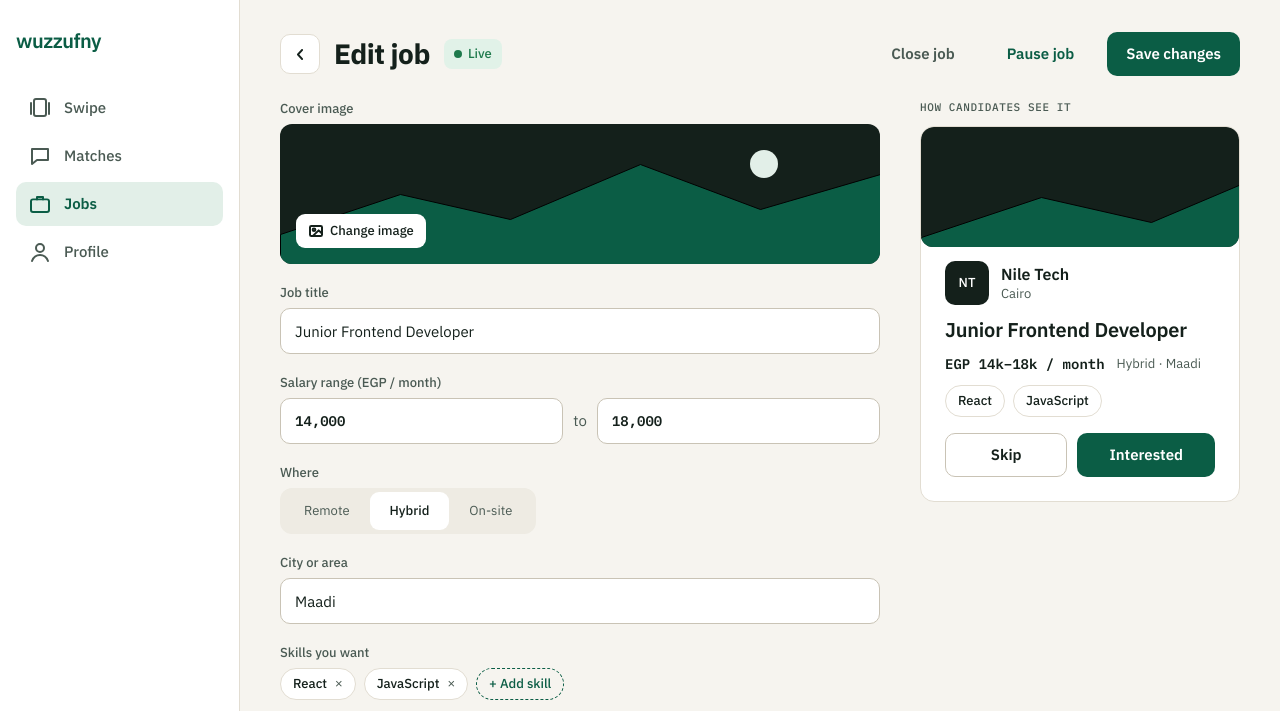
Scenario: H10 Edit a live job › saves the edited fields as numbers and a skill list
The image size is (1280, 711).
Replace the text in the field labelled "Job title" with "Frontend Developer" at (580, 331), box [280, 308, 880, 354]
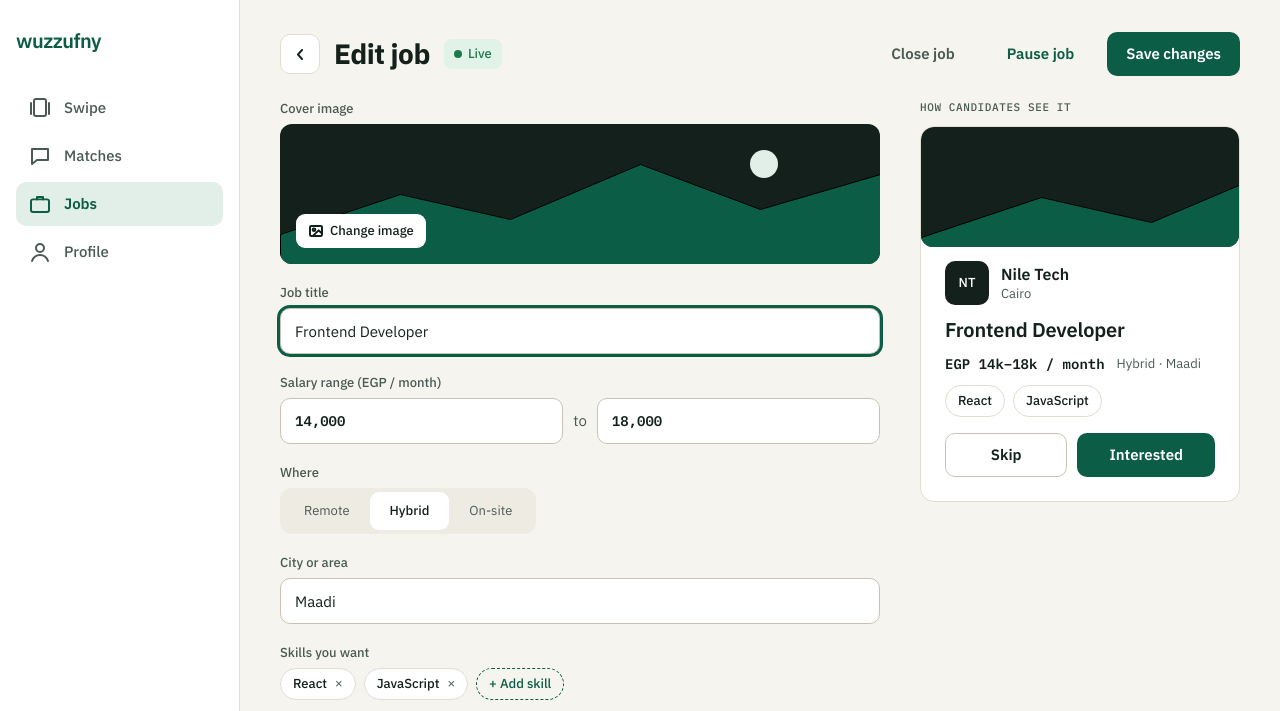
Click the button named "Remove JavaScript" at (450, 684), box [445, 675, 455, 693]
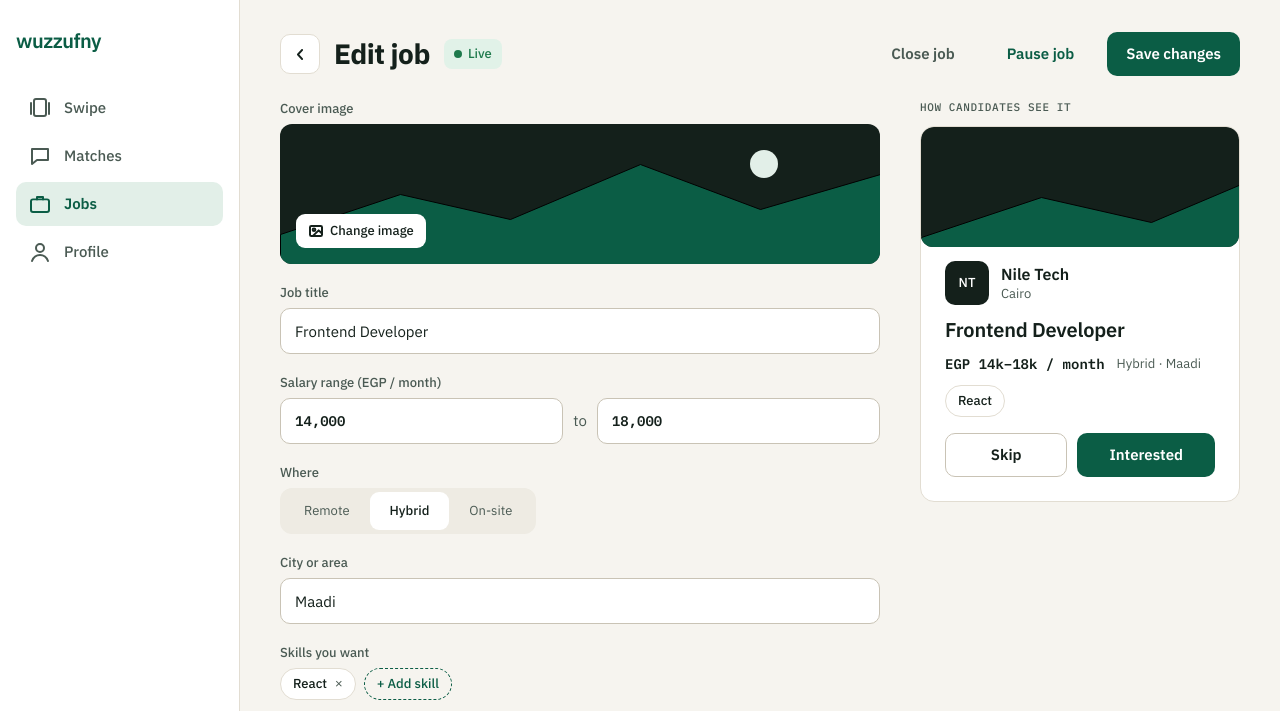
Click the button "+ Add skill" at (408, 684), box [364, 668, 452, 700]
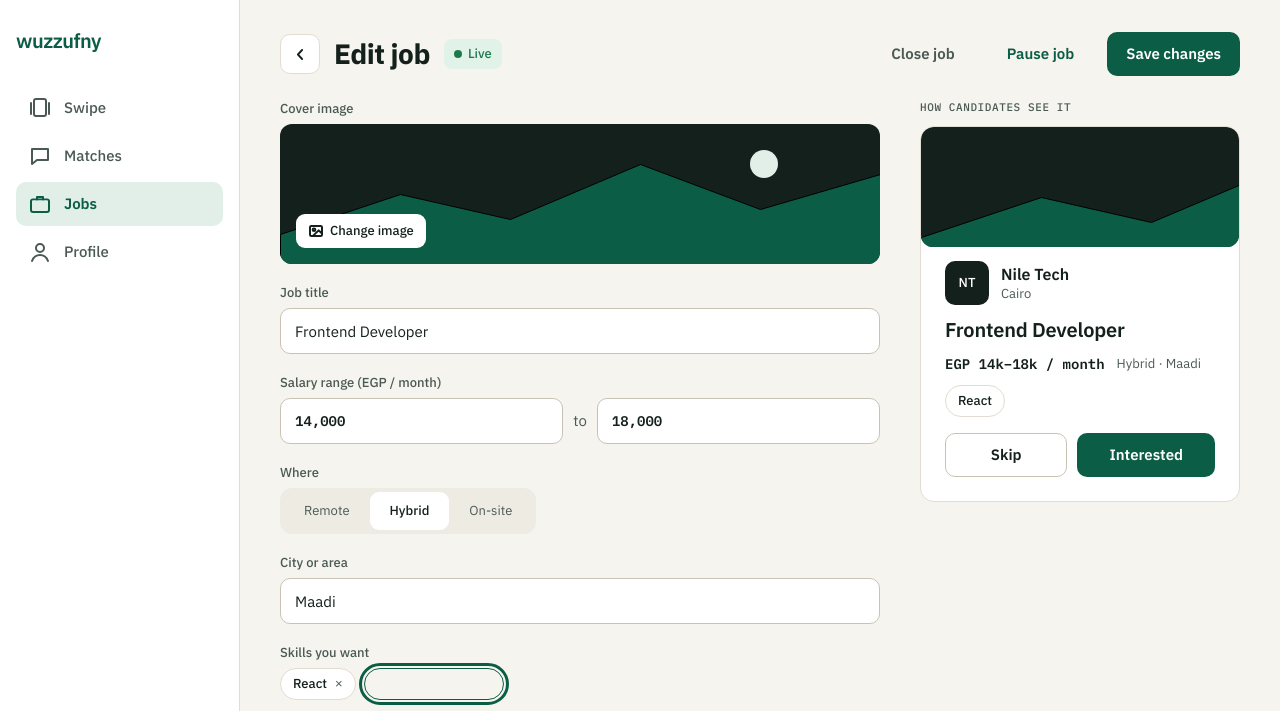
Type "Git" into the field named "New skill" at (434, 684), box [364, 668, 504, 700]
Then press Enter
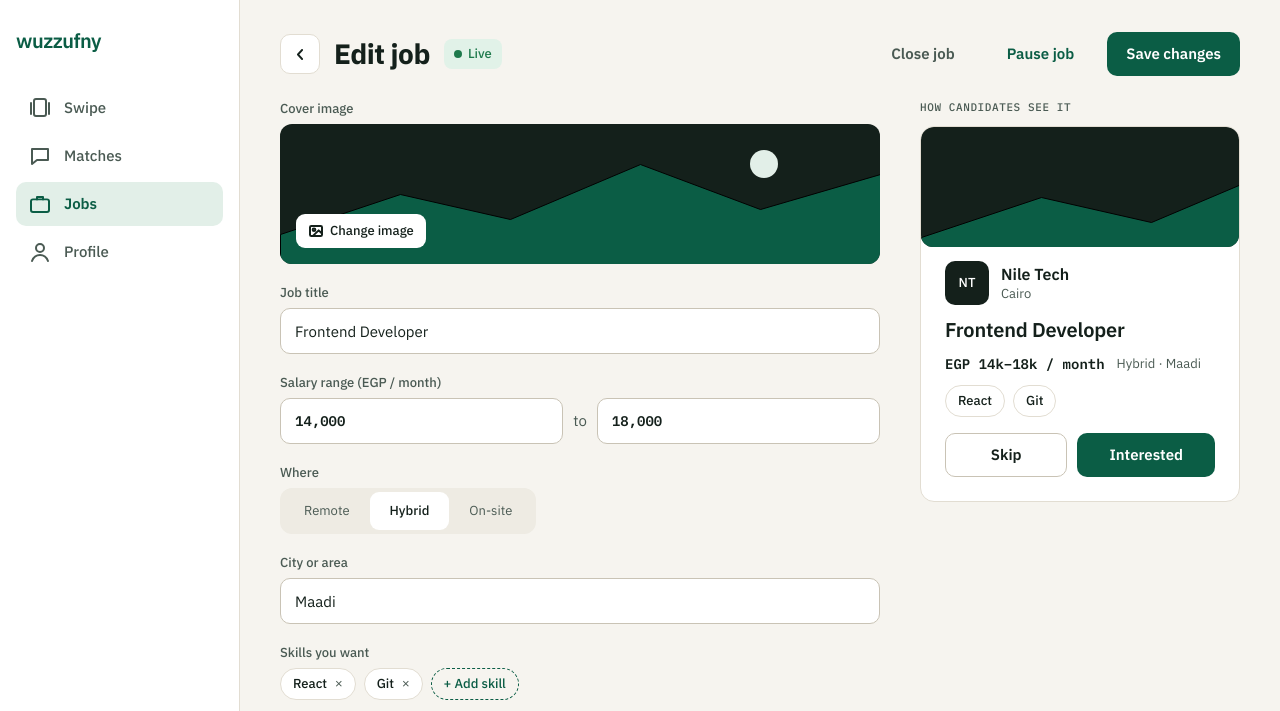
Click the button "Save changes" at (1174, 54), box [1107, 32, 1240, 76]
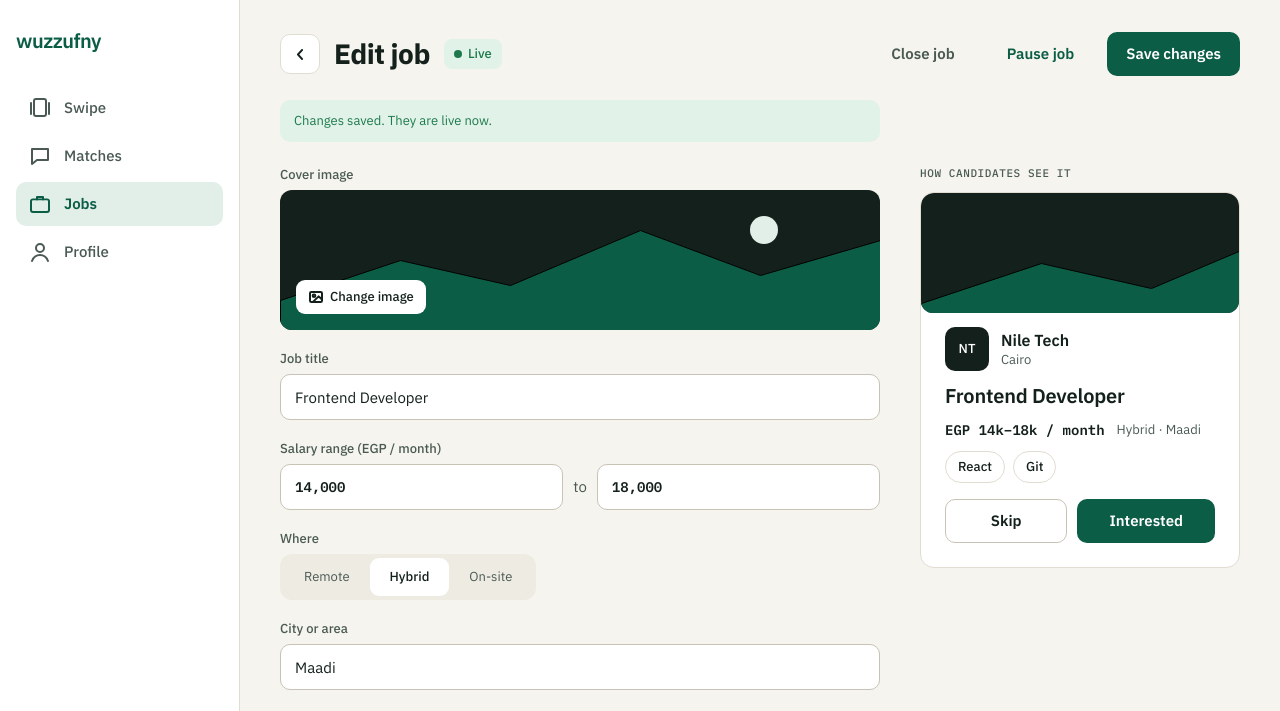
Now the text "Changes saved. They are live now." is shown, box [280, 100, 880, 142]
